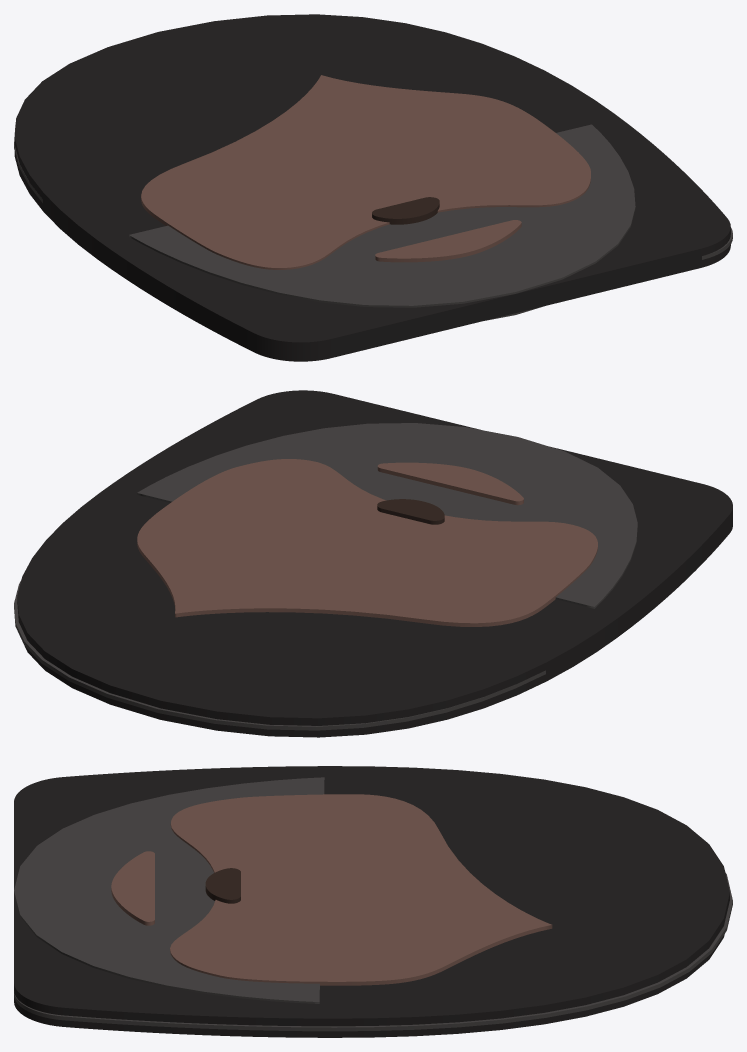
The model's file is emoji_u1f9d4_1f3ff_200d_2640.glb.
3 renders of one model, top to bottom at view 1: azimuth 30°, elevation 25°; view 2: azimuth 150°, elevation 25°; view 3: azimuth 270°, elevation 25°, orthographic.
Parts seen in each view (by area): view 1: emoji_u1f9d4_1f3ff_200d_2640; view 2: emoji_u1f9d4_1f3ff_200d_2640; view 3: emoji_u1f9d4_1f3ff_200d_2640.
Part boxes in pixels (<box>): emoji_u1f9d4_1f3ff_200d_2640: <box>14,14,732,361</box>; emoji_u1f9d4_1f3ff_200d_2640: <box>14,390,732,737</box>; emoji_u1f9d4_1f3ff_200d_2640: <box>14,766,732,1037</box>.
Size of the model in its own units: 0.0283 by 0.0018 by 0.0339.
